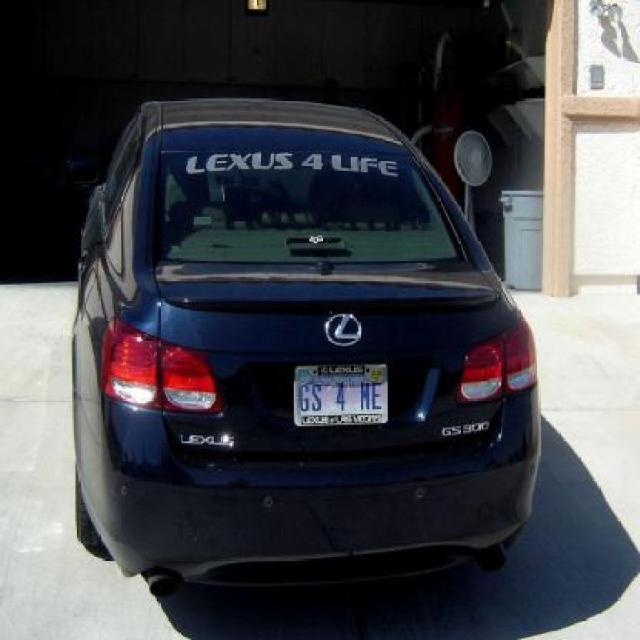License-Plates: (294, 364, 388, 426)
